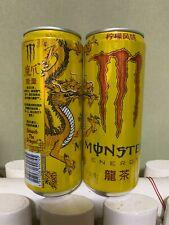metal: (24, 27, 145, 196)
